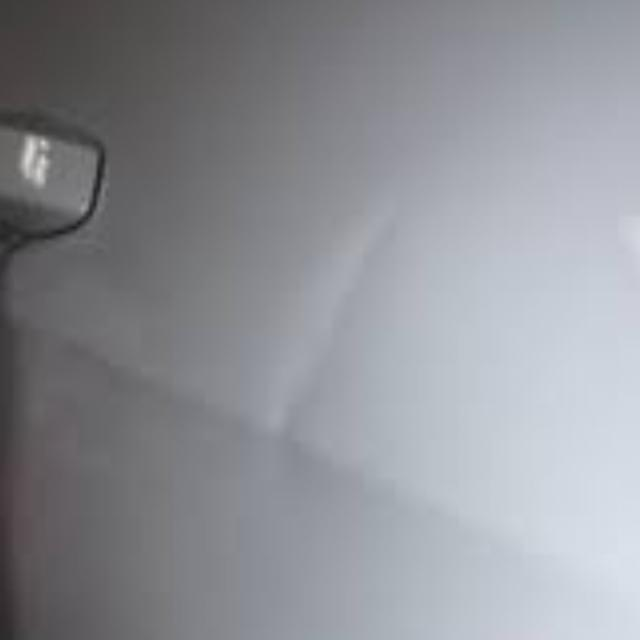dents: (262, 142, 472, 502)
